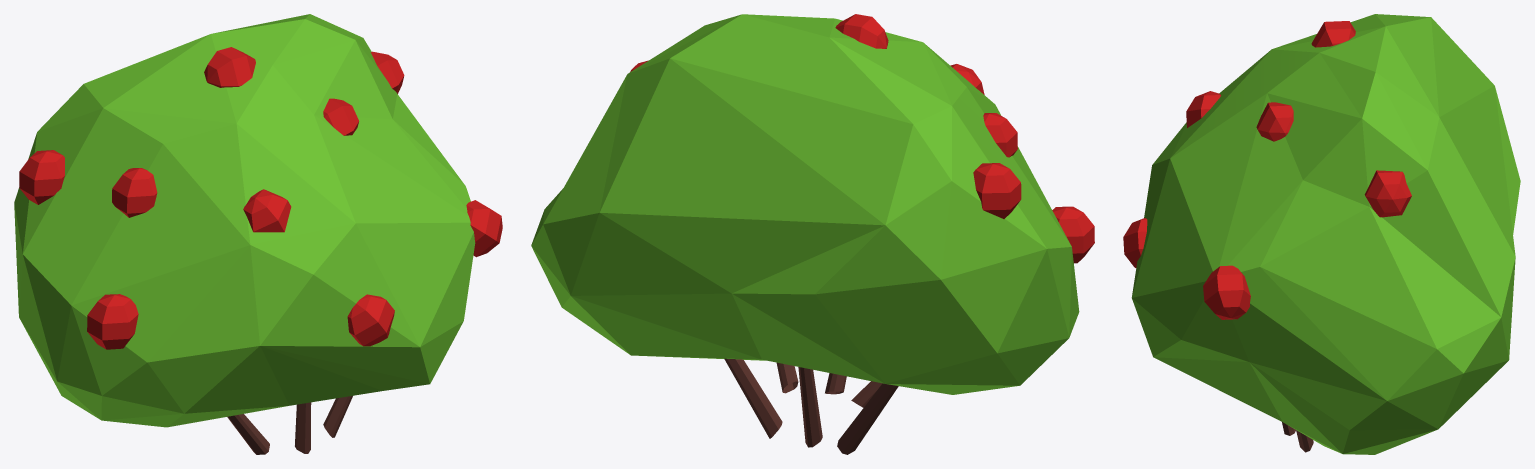
File: bush.fbx
The picture shows the model from 3 angles, left to right: view 1: azimuth 30°, elevation 25°; view 2: azimuth 150°, elevation 25°; view 3: azimuth 270°, elevation 25°; orthographic projection. The views are drawn at different scales.
Parts seen in each view (by area): view 1: leafage.003, Sphere.001; view 2: leafage.003, Sphere.001; view 3: leafage.003, Sphere.001.
Part boxes in pixels (<box>): leafage.003: <box>14,14,475,454</box>; Sphere.001: <box>19,47,502,349</box>; leafage.003: <box>531,14,1079,454</box>; Sphere.001: <box>630,14,1094,263</box>; leafage.003: <box>1131,14,1520,454</box>; Sphere.001: <box>1123,21,1411,319</box>.
Size of the model in its own units: 214 by 179 by 167.
